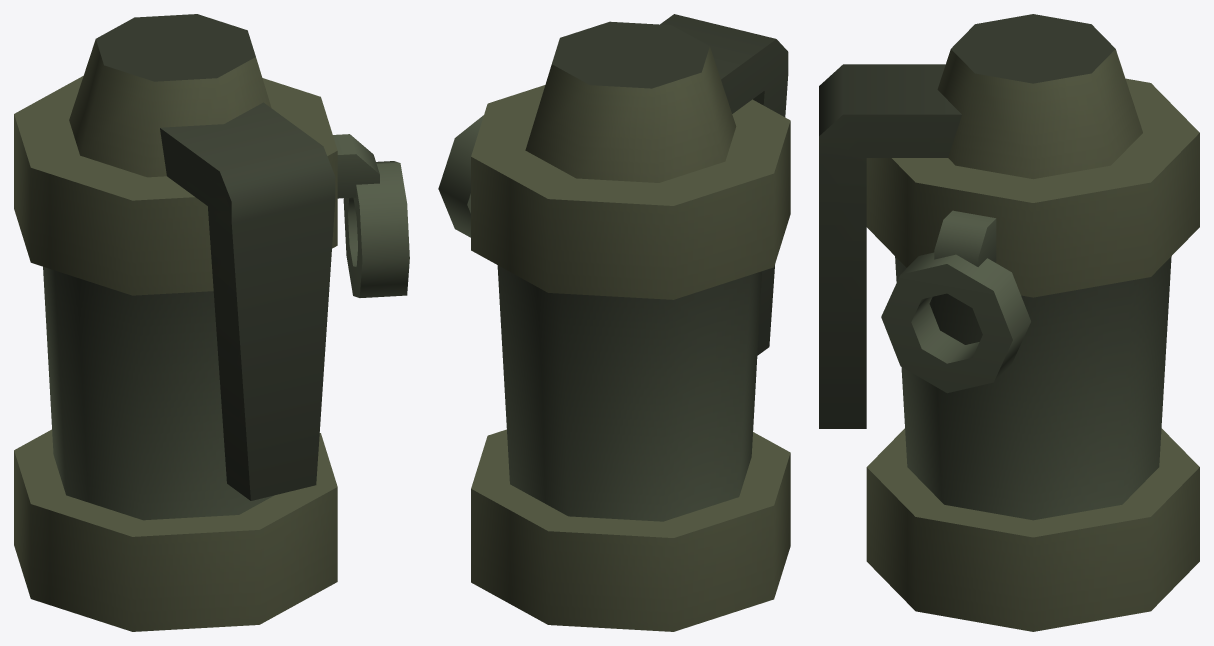
Rendered from frag.glb.
The picture shows the model from 3 angles, left to right: view 1: azimuth 30°, elevation 25°; view 2: azimuth 150°, elevation 25°; view 3: azimuth 270°, elevation 25°; orthographic projection.
Parts seen in each view (by area): view 1: grenade-a; view 2: grenade-a; view 3: grenade-a.
Boxes of the visible parts, <box> form: grenade-a: <box>14,14,409,631</box>; grenade-a: <box>438,14,790,631</box>; grenade-a: <box>819,14,1199,631</box>.
Bounding box in the file's own units: 0.169 × 0.2378 × 0.16.
1 material, 1 textured.
